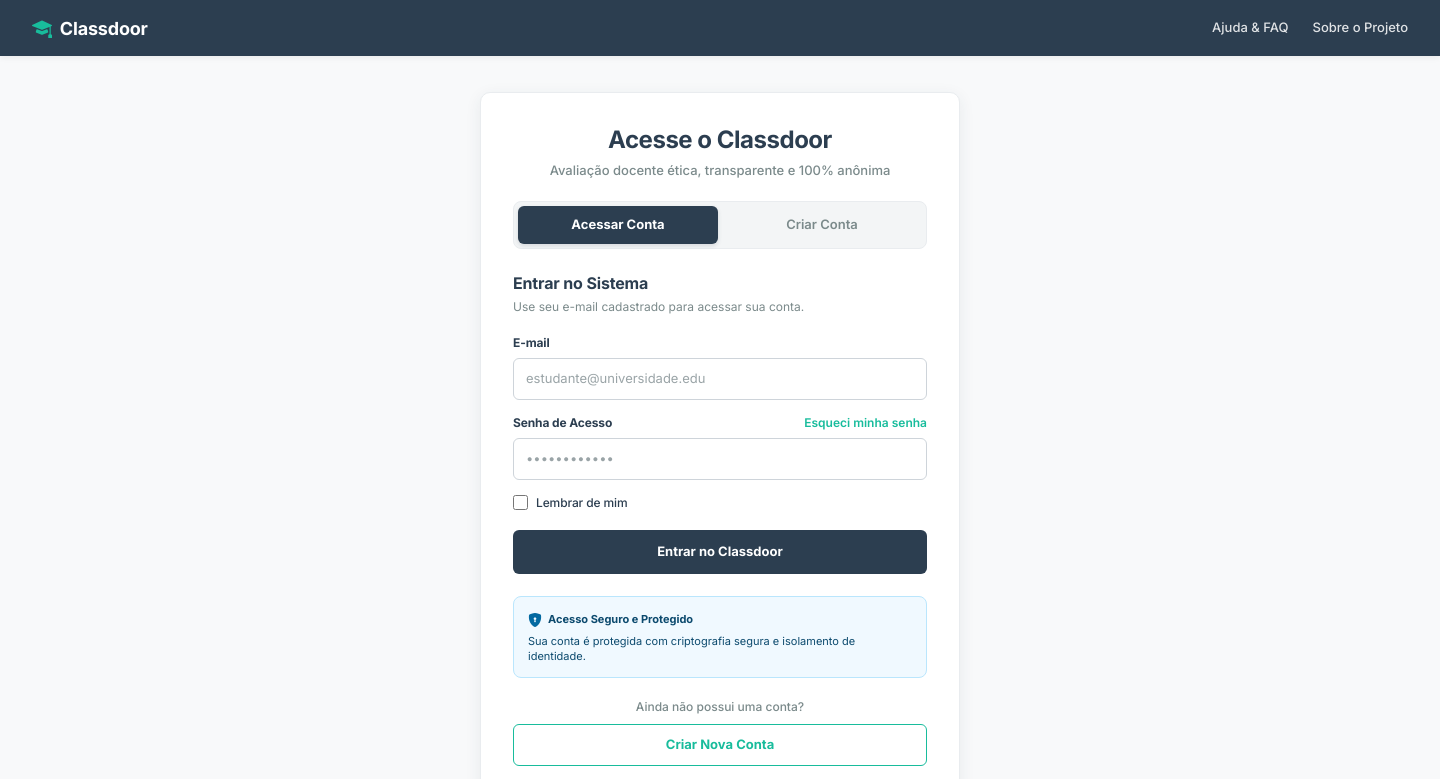
LoginPage Component (US02 / Figma 1A SSOT) › deve exibir mensagem de erro retornada pelo serviço de autenticação
The width and height of the screenshot is (1440, 779).
Step 1. Type "usuario@errado.com" into the field labelled "E-mail" → (720,379), box [513,358,927,400]
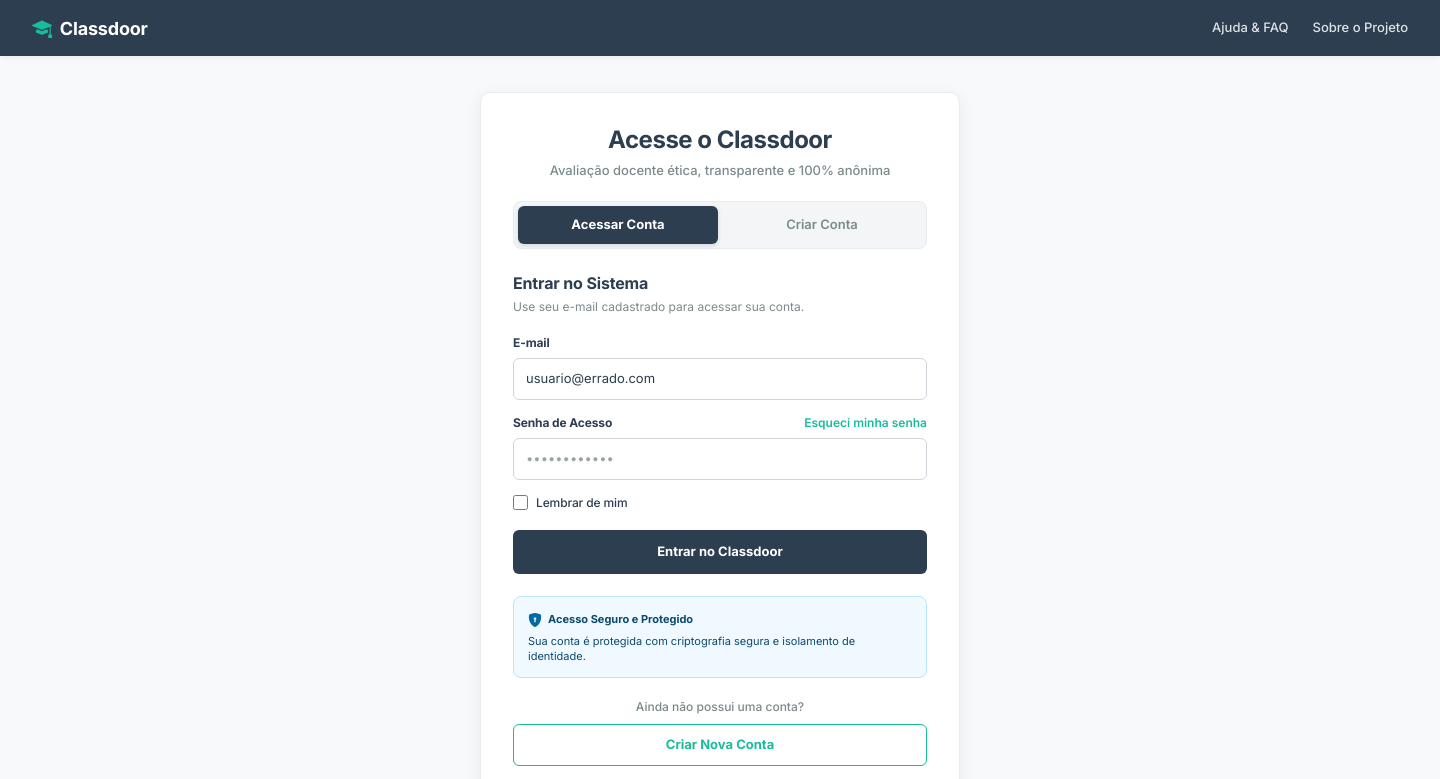
Step 2. Type "senhaerrada" into the password field labelled "Senha de Acesso" → (720,459), box [513,438,927,480]
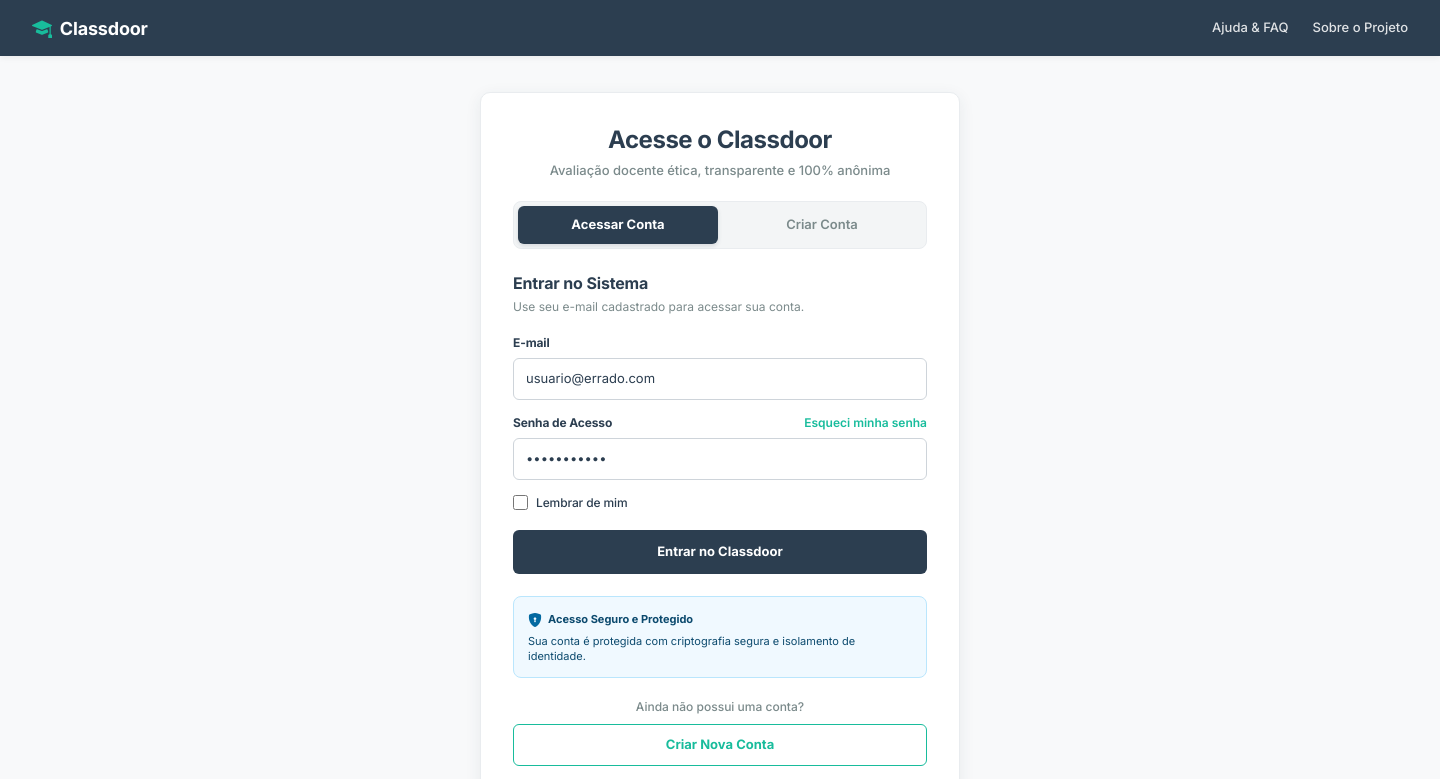
Step 3. Click the button "Entrar no Classdoor" → (720,552), box [513,530,927,574]
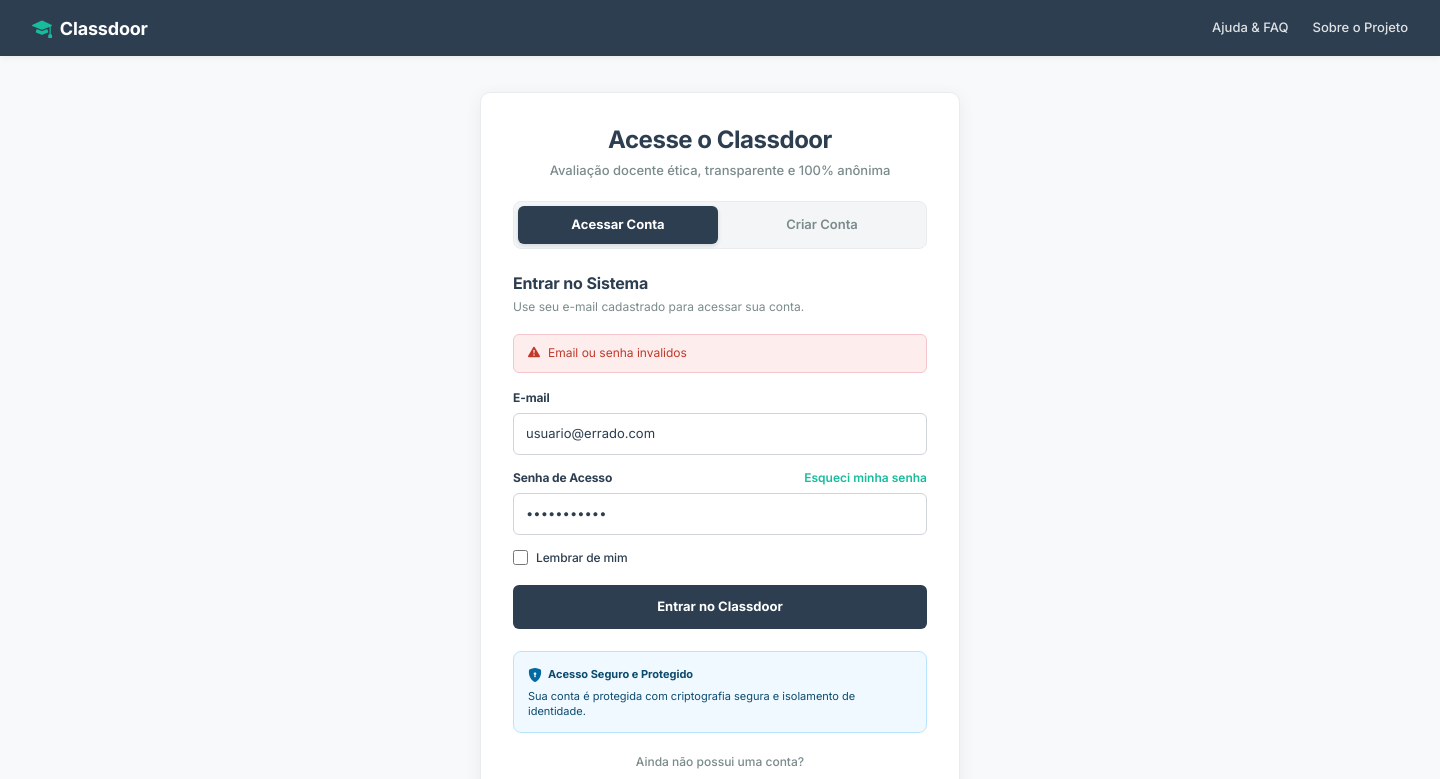
Expected: the message reads "Email ou senha invalidos", [548,345,687,360]
